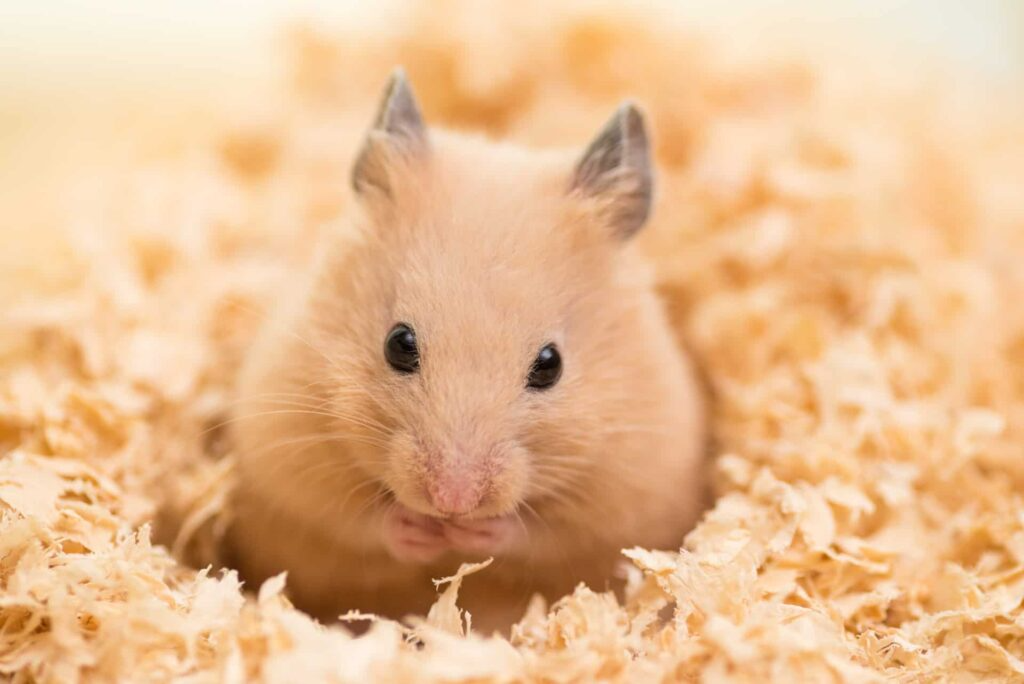hamester: (226, 63, 723, 594)
